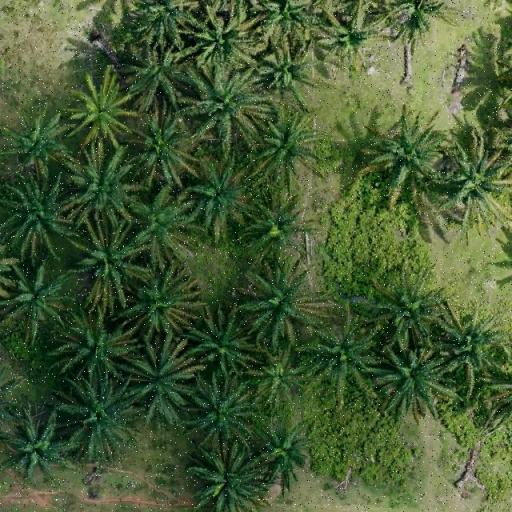Ganoderma: (78, 82, 128, 132)
